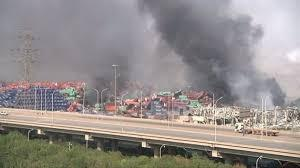yanwu: (1, 1, 288, 108)
